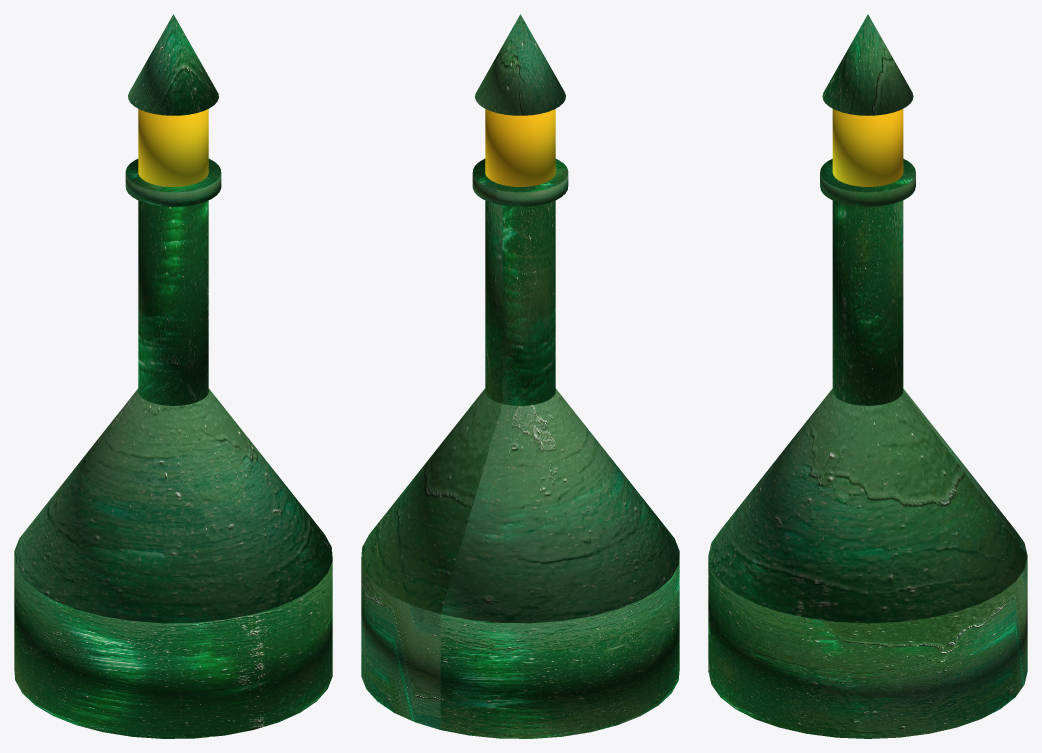
Rendered from Zielona Boja morska.fbx.
The picture shows the model from 3 angles, left to right: view 1: azimuth 30°, elevation 25°; view 2: azimuth 150°, elevation 25°; view 3: azimuth 270°, elevation 25°; orthographic projection.
Parts seen in each view (by area): view 1: Cylinder.001, Cylinder, Cylinder.002, Cone, Cylinder.004, Cylinder.003; view 2: Cylinder.001, Cylinder, Cylinder.002, Cone, Cylinder.004, Cylinder.003; view 3: Cylinder.001, Cylinder, Cylinder.002, Cone, Cylinder.004, Cylinder.003.
Boxes of the visible parts, bbox=[...] form: Cylinder.001: bbox=[14, 388, 332, 623]; Cylinder: bbox=[14, 555, 332, 738]; Cylinder.002: bbox=[138, 200, 208, 405]; Cone: bbox=[128, 14, 218, 115]; Cylinder.004: bbox=[138, 109, 208, 186]; Cylinder.003: bbox=[125, 158, 221, 206]; Cylinder.001: bbox=[361, 388, 679, 623]; Cylinder: bbox=[361, 555, 679, 738]; Cylinder.002: bbox=[485, 200, 555, 405]; Cone: bbox=[475, 14, 565, 115]; Cylinder.004: bbox=[485, 109, 555, 186]; Cylinder.003: bbox=[472, 158, 568, 206]; Cylinder.001: bbox=[708, 389, 1027, 623]; Cylinder: bbox=[708, 556, 1027, 738]; Cylinder.002: bbox=[832, 200, 903, 405]; Cone: bbox=[822, 14, 913, 115]; Cylinder.004: bbox=[832, 109, 903, 186]; Cylinder.003: bbox=[820, 158, 915, 206].
Bounding box in the file's own units: 200 × 455 × 200.
Materials: 2 (2 with a texture image).
